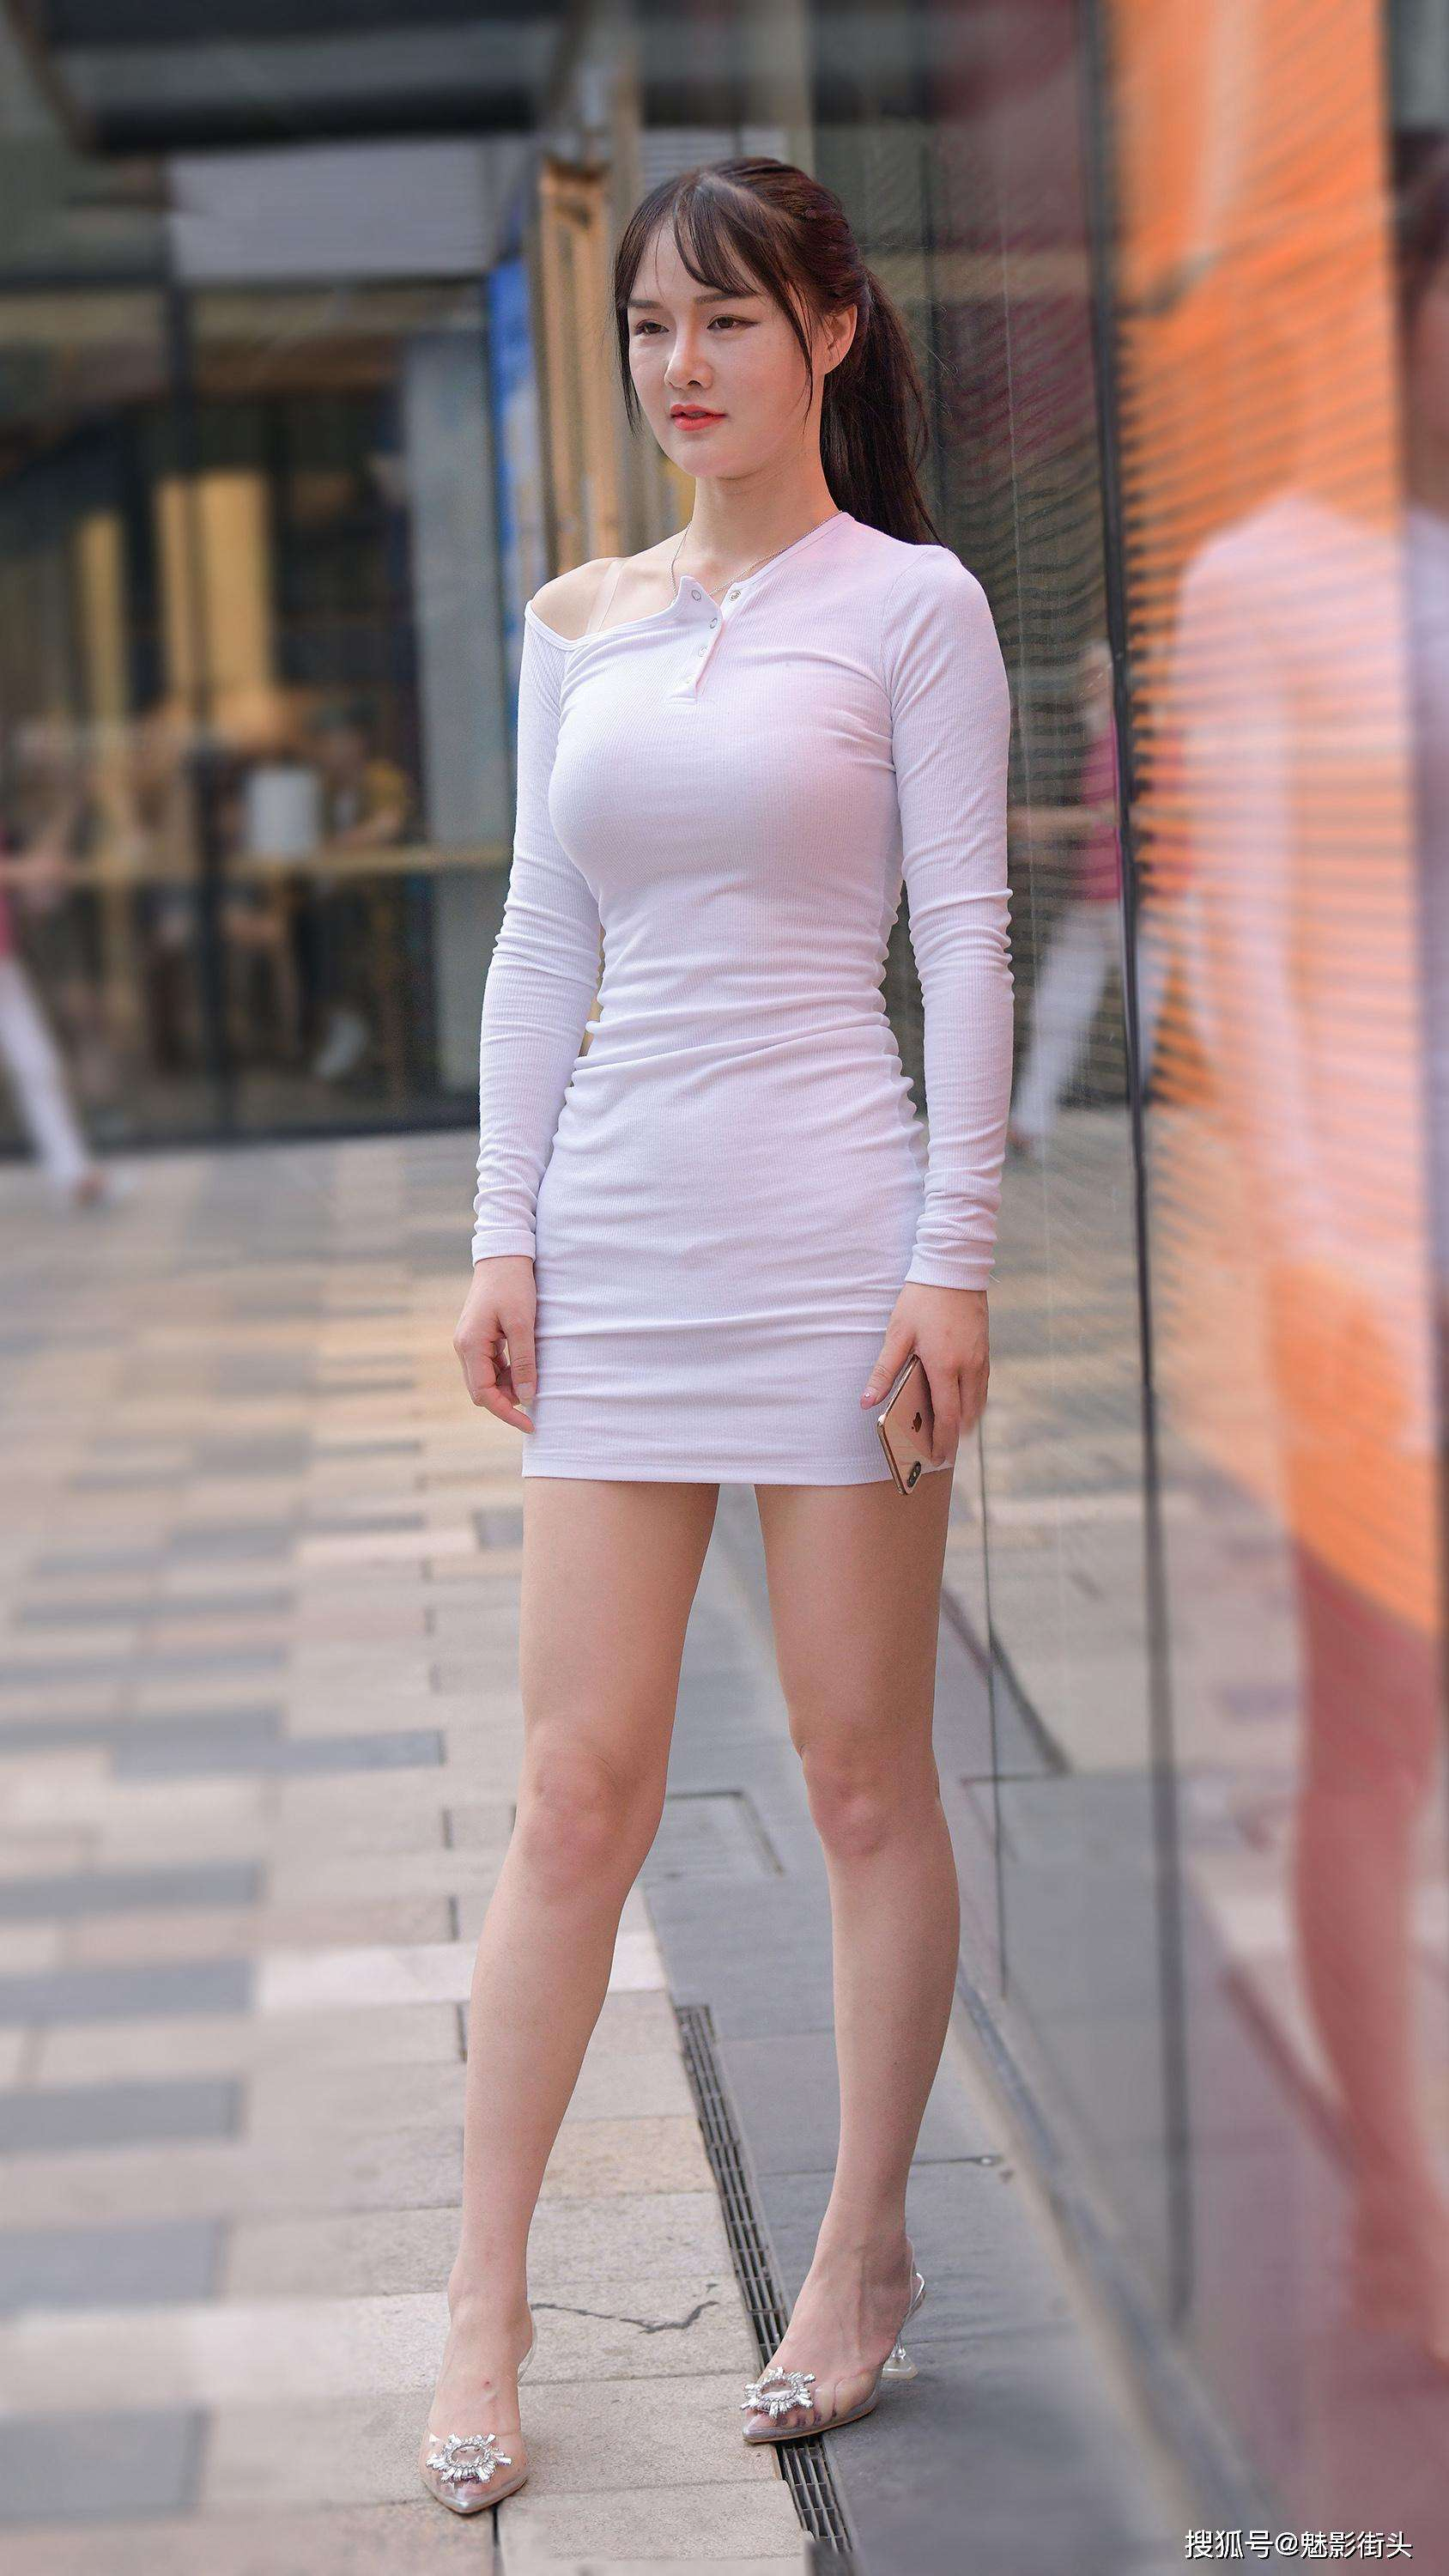person: (531, 182, 1035, 2365)
